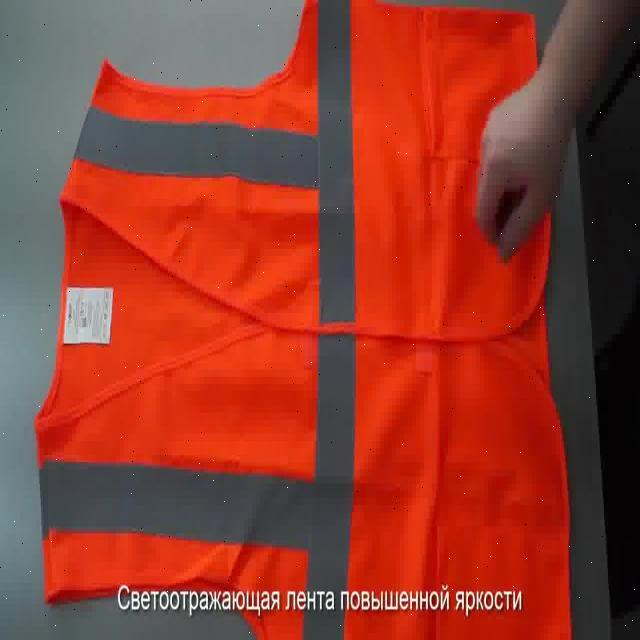Vest: (33, 0, 573, 640)
